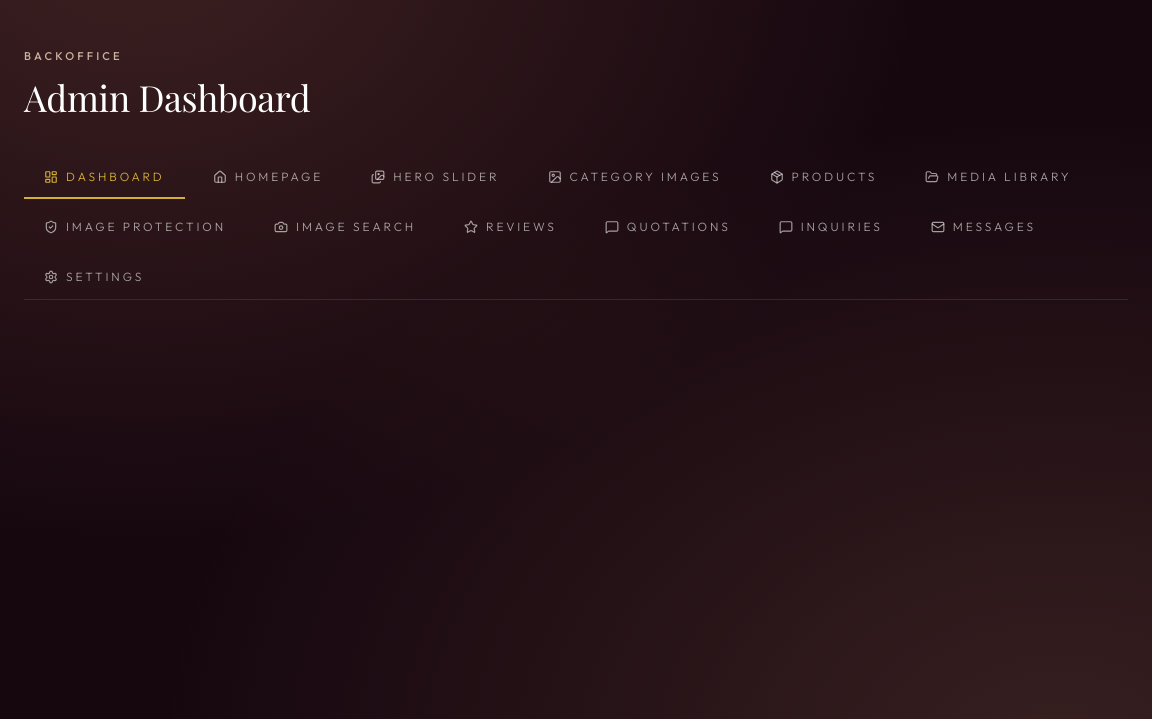
it: admin product list shows both saved relationship names
Click the button with test id "admin-tab-products": (824, 178) [750,157,897,199]
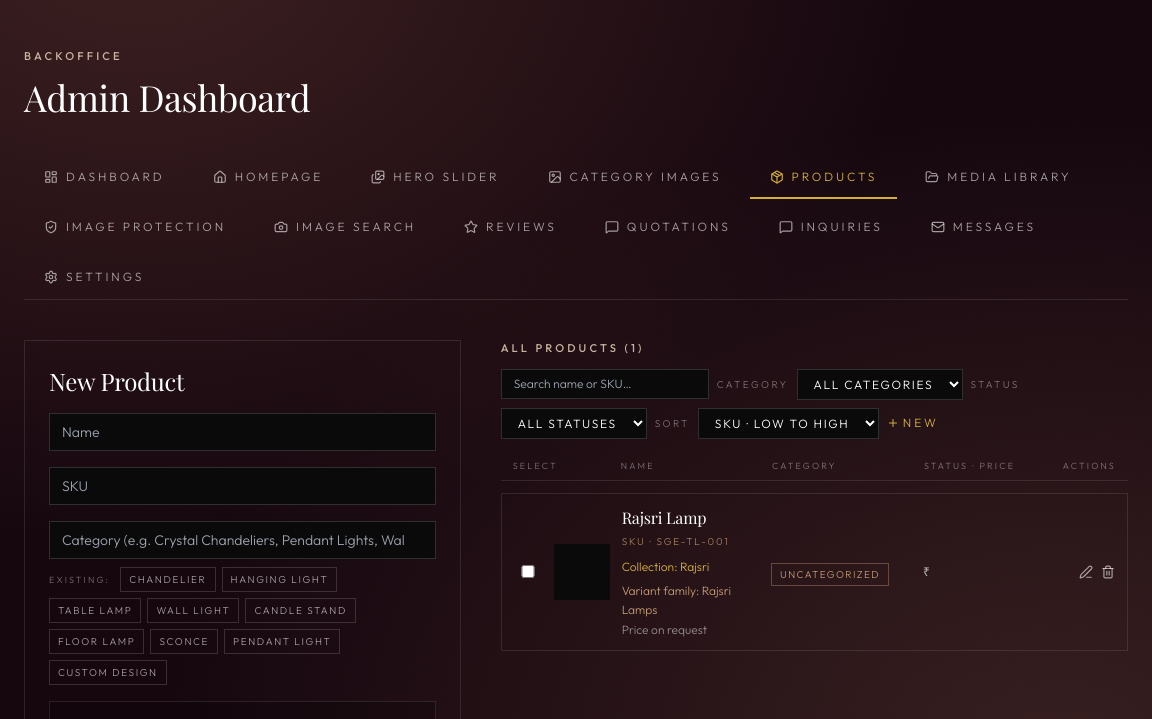
Now the element with test id "admin-product-one" shows "Collection: Rajsri", box [501,493,1128,651]
Now the element with test id "admin-product-one" shows "Variant family: Rajsri Lamps", box [501,493,1128,651]
